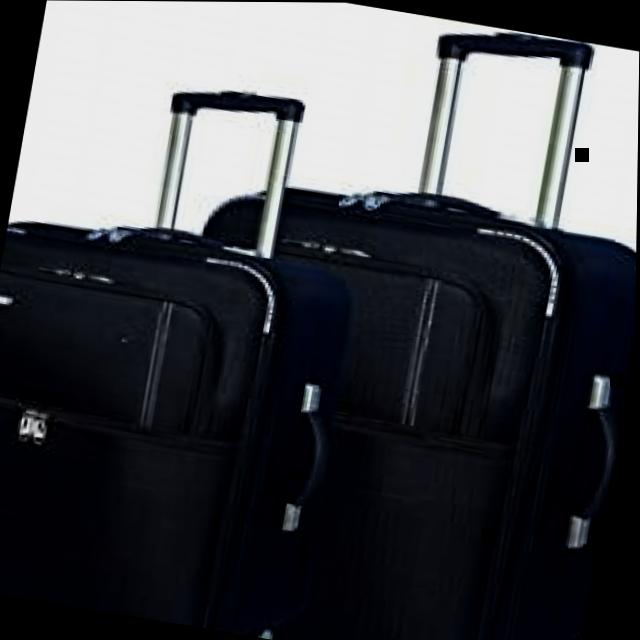luggage: (129, 152, 638, 640), (0, 189, 374, 640)
